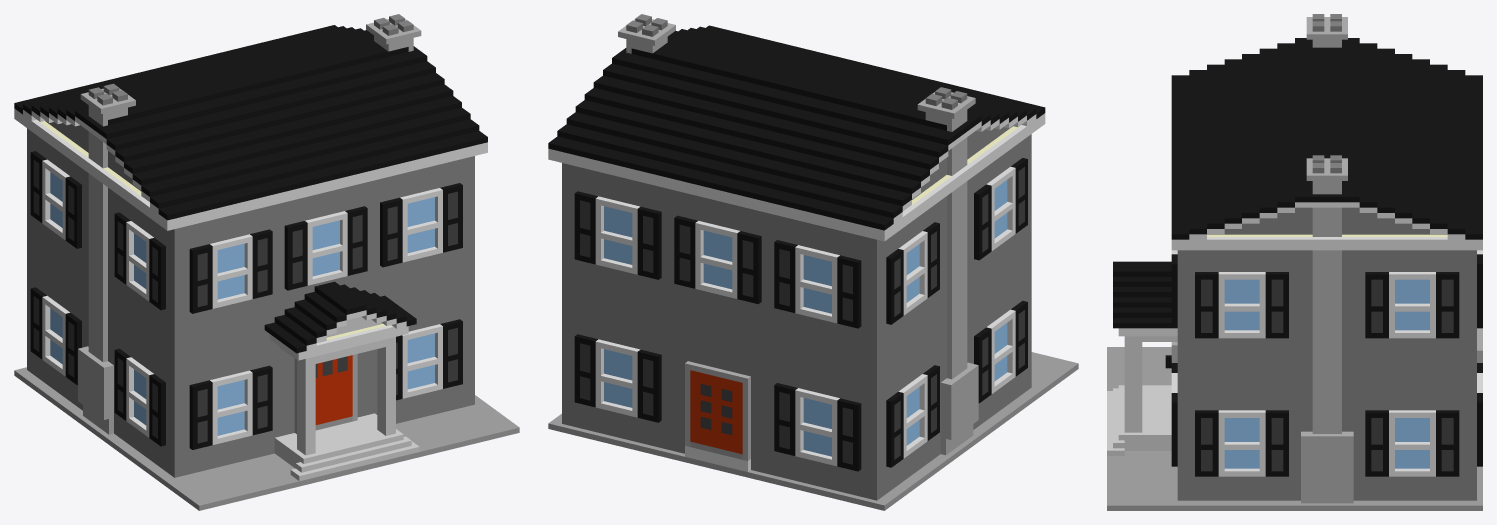
File: obj_house4d.obj
3 renders of one model, left to right at view 1: azimuth 30°, elevation 25°; view 2: azimuth 150°, elevation 25°; view 3: azimuth 270°, elevation 25°, orthographic. The views are drawn at different scales.
Size of the model in its own units: 6.4 by 6.4 by 6.4.
Materials: 1 (1 with a texture image).
